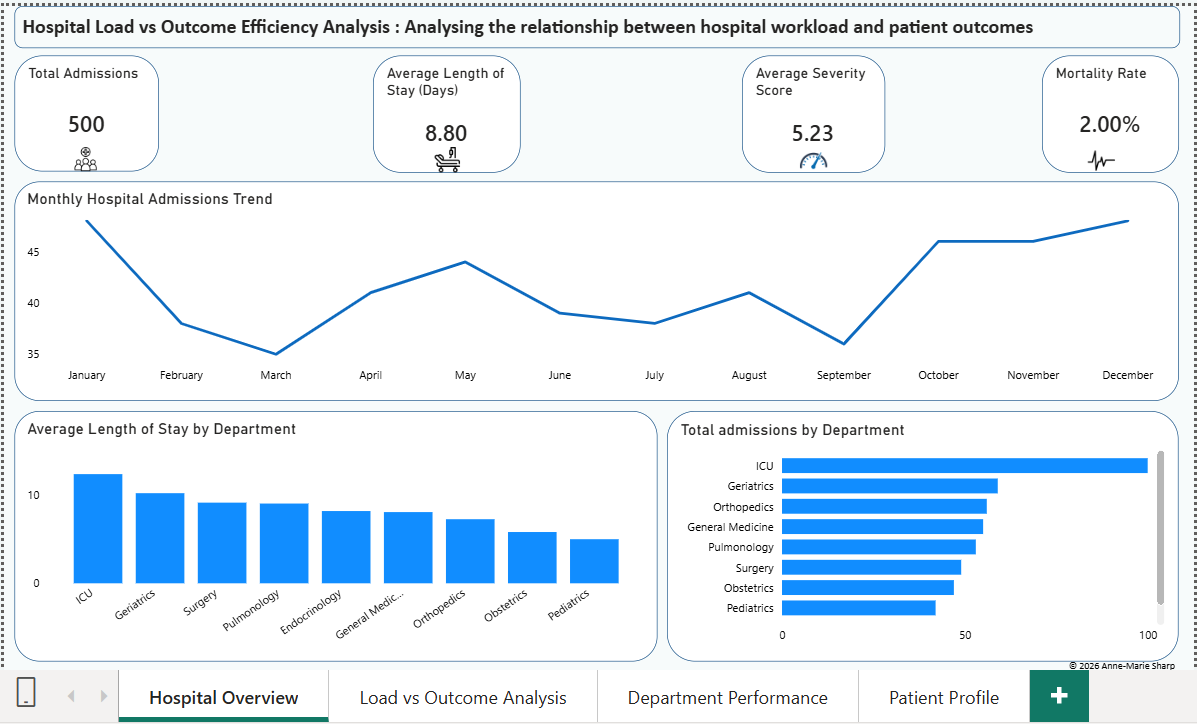

The page's visual inventory and layout, read from the dashboard file:
{"tool":"powerbi","page":{"name":"Hospital Overview","canvas":[1280,720],"ordinal":0},"visuals":[{"type":"cardVisual","title":"Total Admissions","fields":{"Data":["CountNonNull(public hospital_admissions.patient_id)"]},"box":[11.3,53.4,155.4,124.7],"z":0},{"type":"cardVisual","title":"Average Length of Stay (Days)","fields":{"Data":["Avg(public hospital_admissions.length_of_stay)"]},"box":[396.7,53.4,158.7,126.3],"z":1000},{"type":"cardVisual","title":"Mortality Rate","fields":{"Data":["Avg(public hospital_admissions.expired_flag)"]},"box":[1115.6,53.4,147.3,126.3],"z":2000},{"type":"lineChart","title":"Monthly Hospital Admissions Trend","fields":{"Category":["public monthly_admission.admission_month.Variation.Date Hierarchy.Month"],"Y":["Sum(public monthly_admission.total_admissions)"]},"box":[11.6,189.2,1251.8,235.8],"z":3000},{"type":"clusteredBarChart","title":"Total admissions by Department","fields":{"Category":["public hospital_admissions.department"],"Y":["CountNonNull(public hospital_admissions.patient_id)"]},"box":[713.2,435.2,550.2,269.3],"z":4000},{"type":"clusteredColumnChart","title":"Average Length of Stay by Department","fields":{"Category":["public hospital_admissions.department"],"Y":["Avg(public hospital_admissions.length_of_stay)"]},"box":[11.6,435.2,691.4,269.3],"z":5000},{"type":"cardVisual","title":"Average Severity Score","fields":{"Data":["Avg(public hospital_admissions.severity_score)"]},"box":[793.4,53.4,153.8,126.3],"z":6000},{"type":"textbox","box":[1096,689.9,167.4,30.6],"z":7000},{"type":"textbox","box":[11.3,0,1253.2,45.2],"z":8000},{"type":"image","box":[429.1,152.2,95.5,27.5],"z":8001},{"type":"image","box":[55.1,152.2,66.4,25.9],"z":8002},{"type":"image","box":[833.9,152.2,72.9,29.1],"z":8003},{"type":"image","box":[1130.2,152.2,98.8,29.1],"z":8004}]}

Visuals, with their boxes on the page's 1280x720 design canvas (x1, y1, x2, y2). These are canvas units, not pixel positions in the 1197x724 screenshot, which may show the page scaled, cropped or inside an application window:
"Total Admissions" cardVisual: bbox=[11, 53, 167, 178]
"Average Length of Stay (Days)" cardVisual: bbox=[397, 53, 555, 180]
"Mortality Rate" cardVisual: bbox=[1116, 53, 1263, 180]
"Monthly Hospital Admissions Trend" lineChart: bbox=[12, 189, 1263, 425]
"Total admissions by Department" clusteredBarChart: bbox=[713, 435, 1263, 704]
"Average Length of Stay by Department" clusteredColumnChart: bbox=[12, 435, 703, 704]
"Average Severity Score" cardVisual: bbox=[793, 53, 947, 180]
textbox: bbox=[1096, 690, 1263, 720]
textbox: bbox=[11, 0, 1264, 45]
image: bbox=[429, 152, 525, 180]
image: bbox=[55, 152, 122, 178]
image: bbox=[834, 152, 907, 181]
image: bbox=[1130, 152, 1229, 181]
